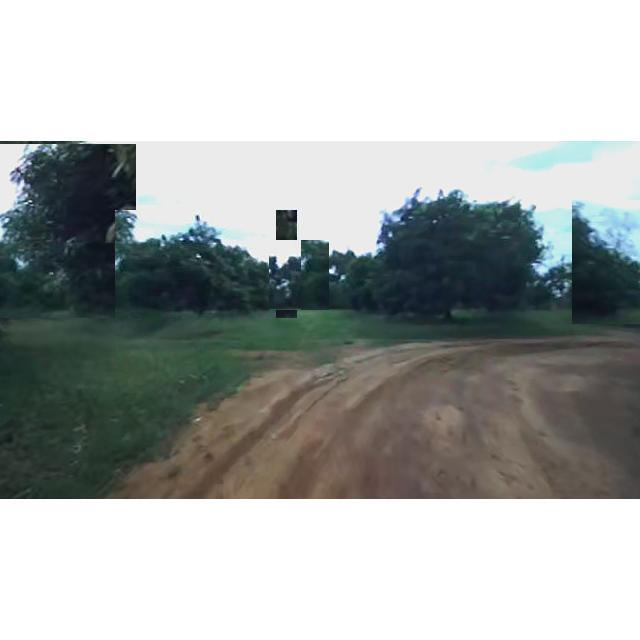direk: (354, 185, 550, 329), (0, 144, 136, 318), (115, 210, 297, 318), (572, 200, 640, 324), (269, 240, 329, 310)
